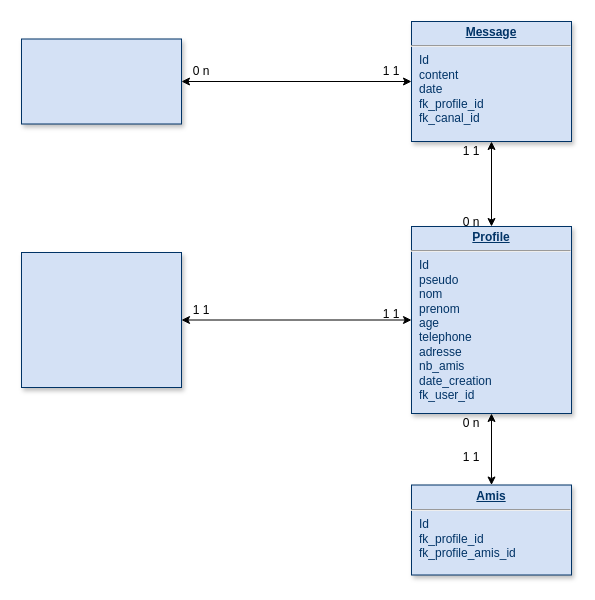
The diagram is 595 pixels wide and 600 high, and some of its shapes have lost their labels. The shapes that lost their labels are listed below. From the top down, each one's centre as x and y in pixels, then its label:
[102,82]: Canal Id titre description
[102,321]: User Id nom email password date_creation
